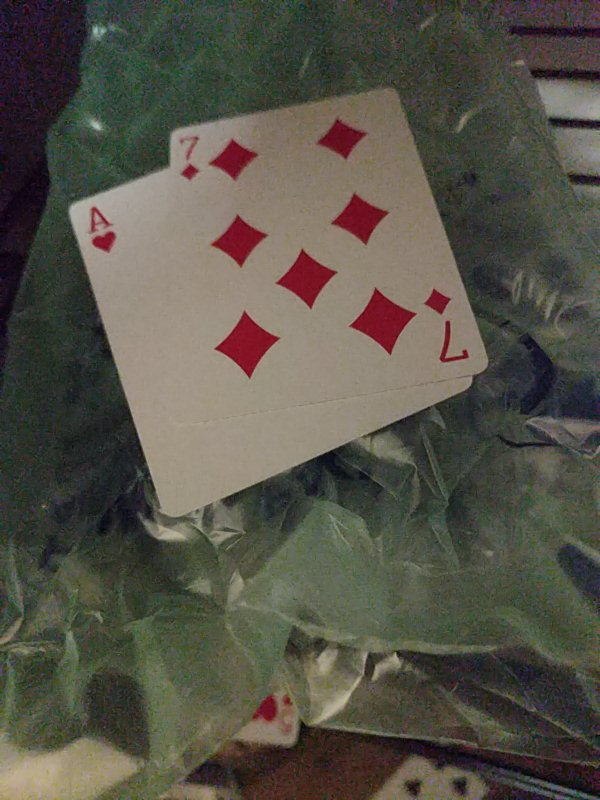Diamonds: (170, 88, 489, 429)
Hearts: (66, 163, 168, 511)
